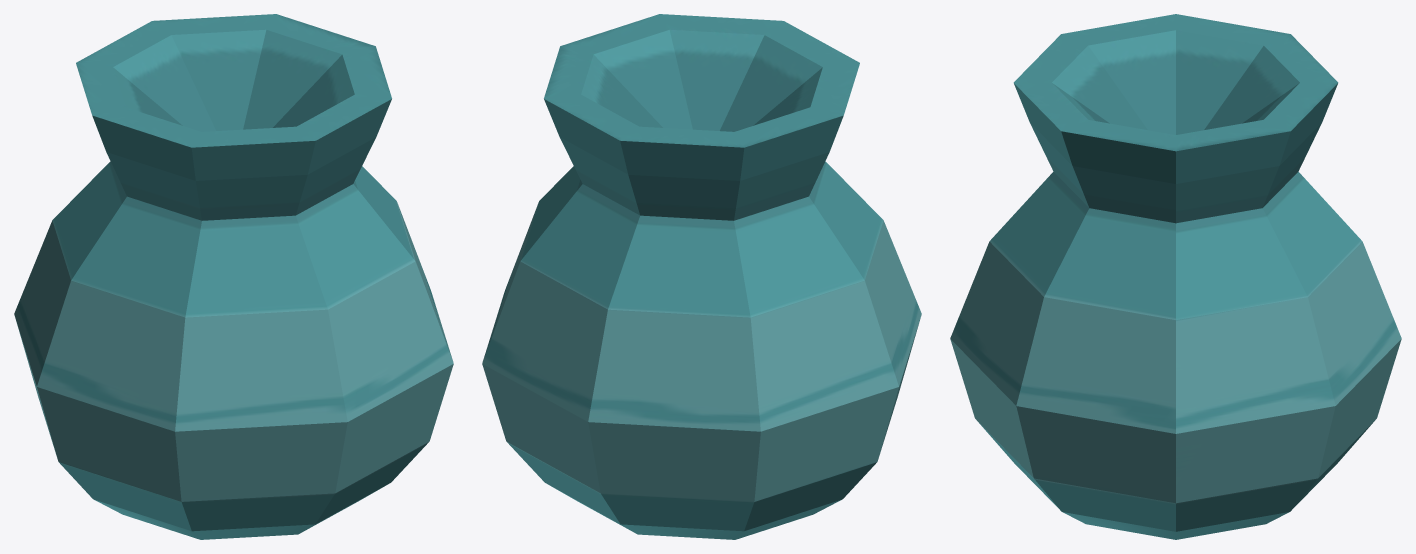
The model's file is smg.fbx.
The picture shows the model from 3 angles, left to right: view 1: azimuth 30°, elevation 25°; view 2: azimuth 150°, elevation 25°; view 3: azimuth 270°, elevation 25°; orthographic projection.
Parts seen in each view (by area): view 1: Object015; view 2: Object015; view 3: Object015.
Part boxes in pixels (x1,y1,x2,y2): Object015: (14,14,453,539); Object015: (482,14,921,539); Object015: (950,14,1401,539).
Bounding box in the file's own units: 13.69 × 13.5 × 13.69.
